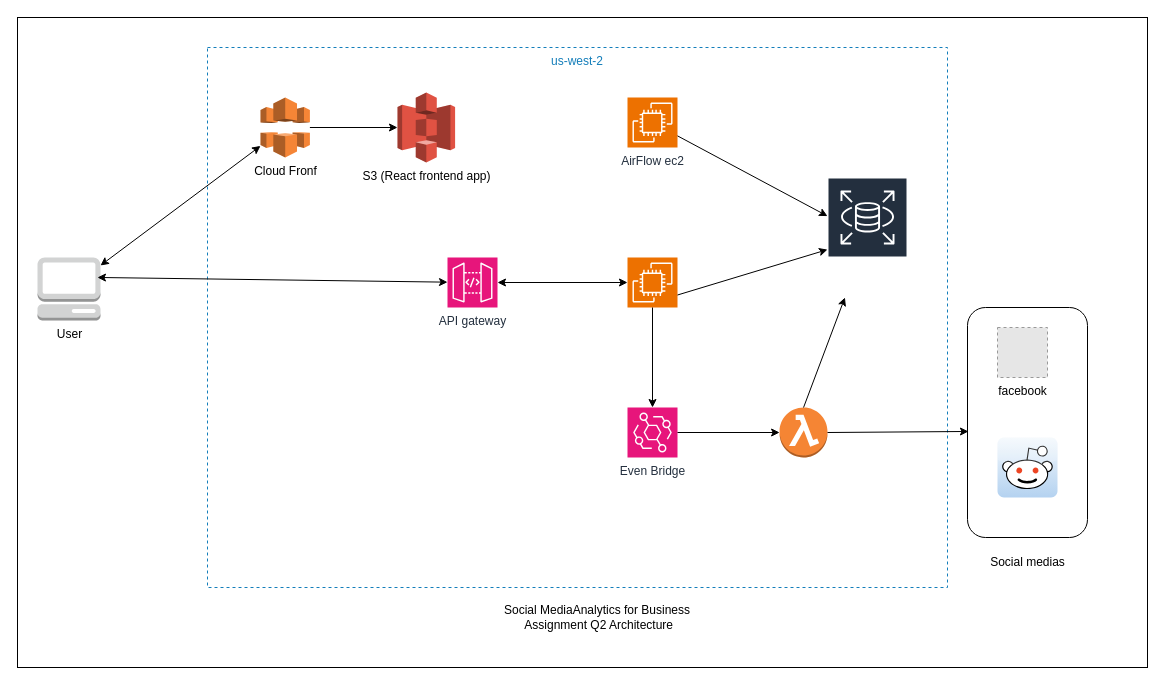
This 1165x685 diagram has some shape labels left out. Grey dashed boxes stand in for pictures. The shapes that lost their labels are listed below. From the top down, each one's centre as x and y in pixels, then its label:
At pixel 867 237: "Amazon MySql RDS".
At pixel 652 282: "Backend ec2".
At pixel 803 432: "Schedule post".
At pixel 1027 467: "reddit".
